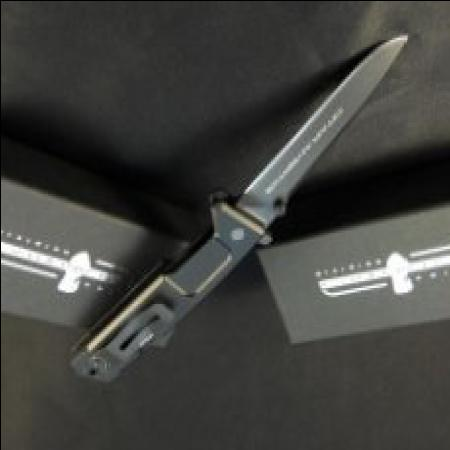long weapon: (227, 32, 411, 234)
